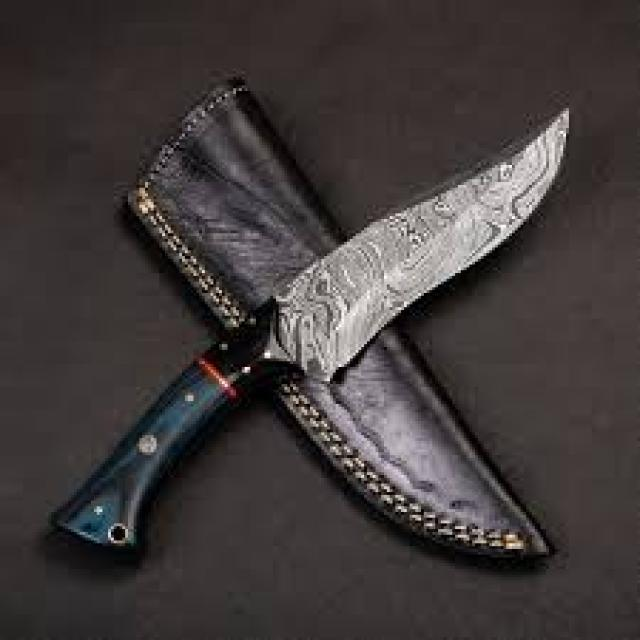knives: (46, 68, 566, 569)
